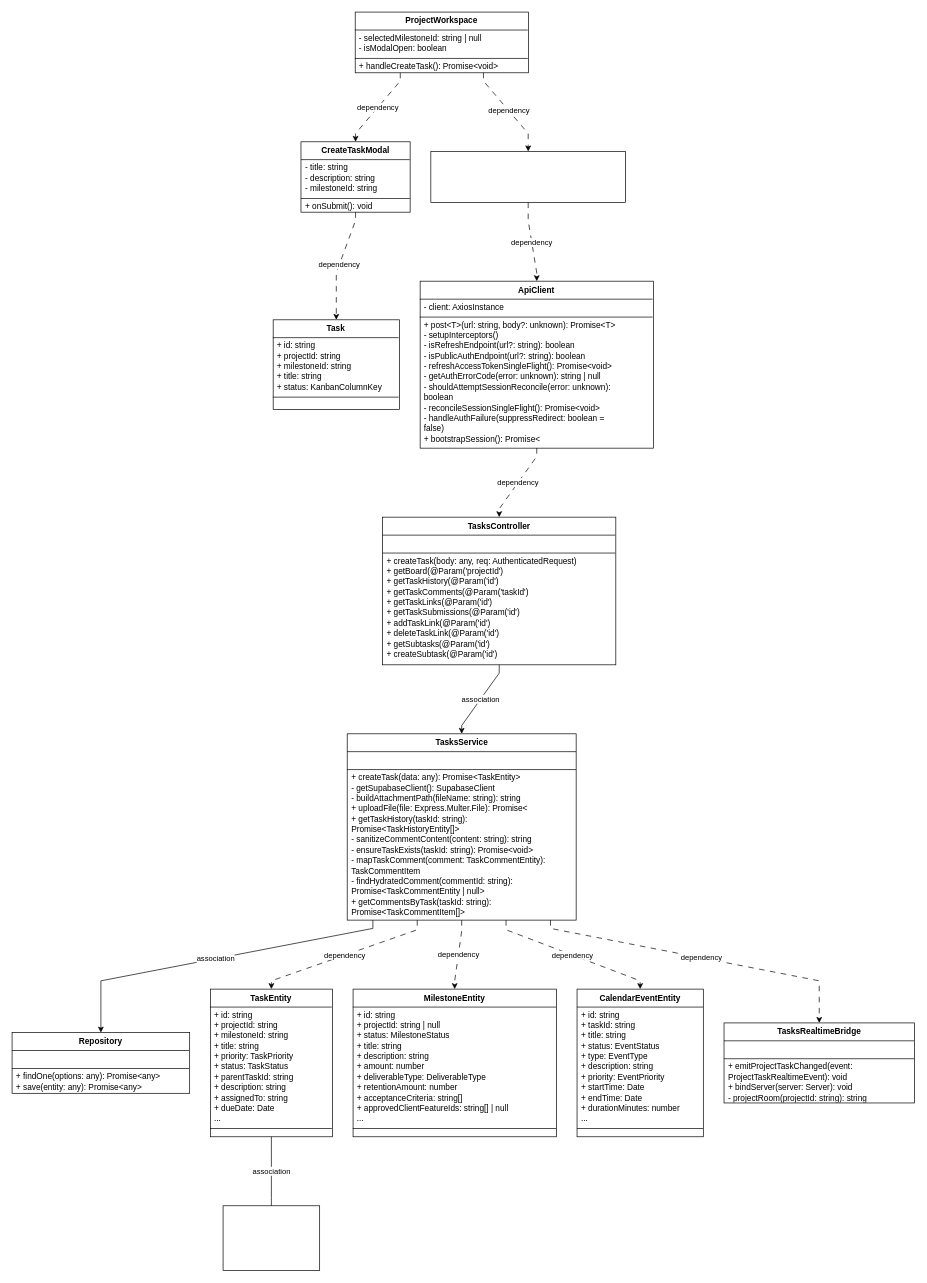
Image size: 927x1283. Some labels were removed from this diagram. The shapes that lost their labels are listed below. From the top down, each one's centre as x and y in pixels, then its label:
point (528, 177): createTask + createTask(payload: any): Promise<Task>
point (271, 1238): TaskPriority LOW MEDIUM HIGH URGENT
